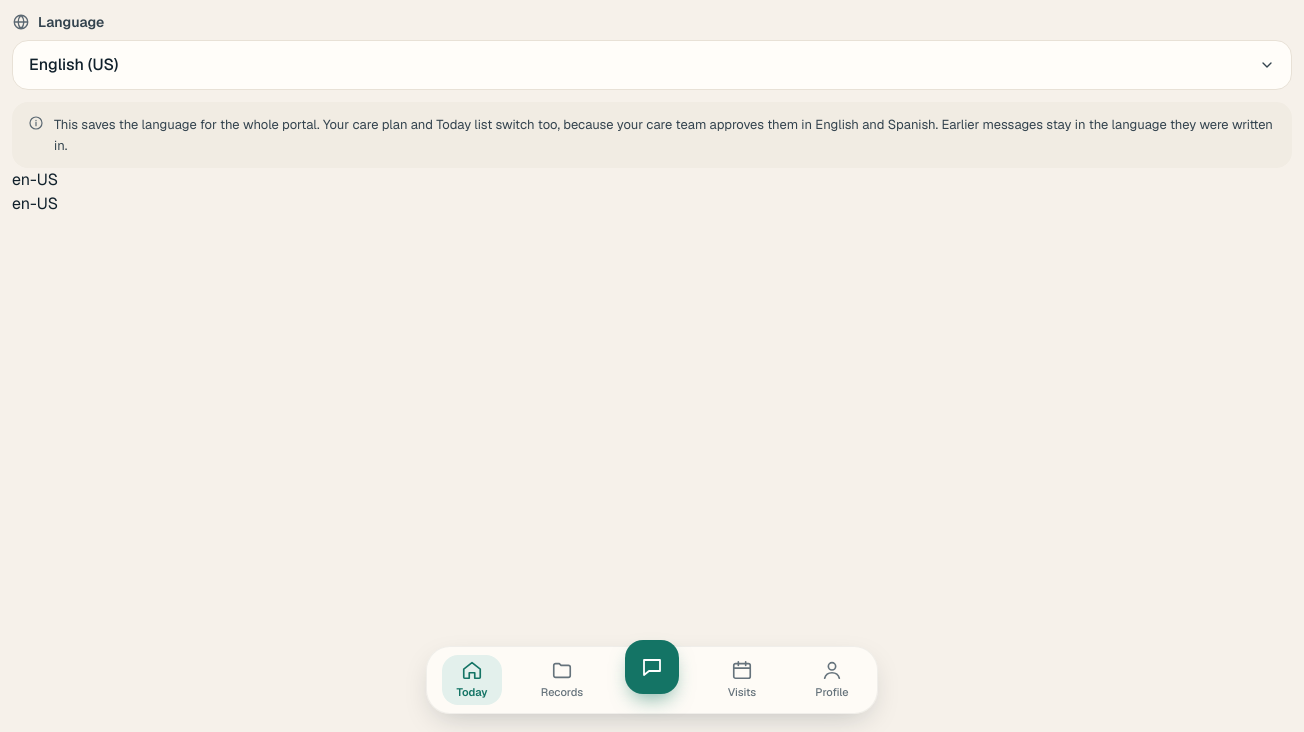
Test: Portal language preference › keeps the saved language after failure and explains medical-text boundaries
Select "Español (México)" in the dropdown at point(652, 65), box top-left (12, 40), bottom-right (1292, 90)
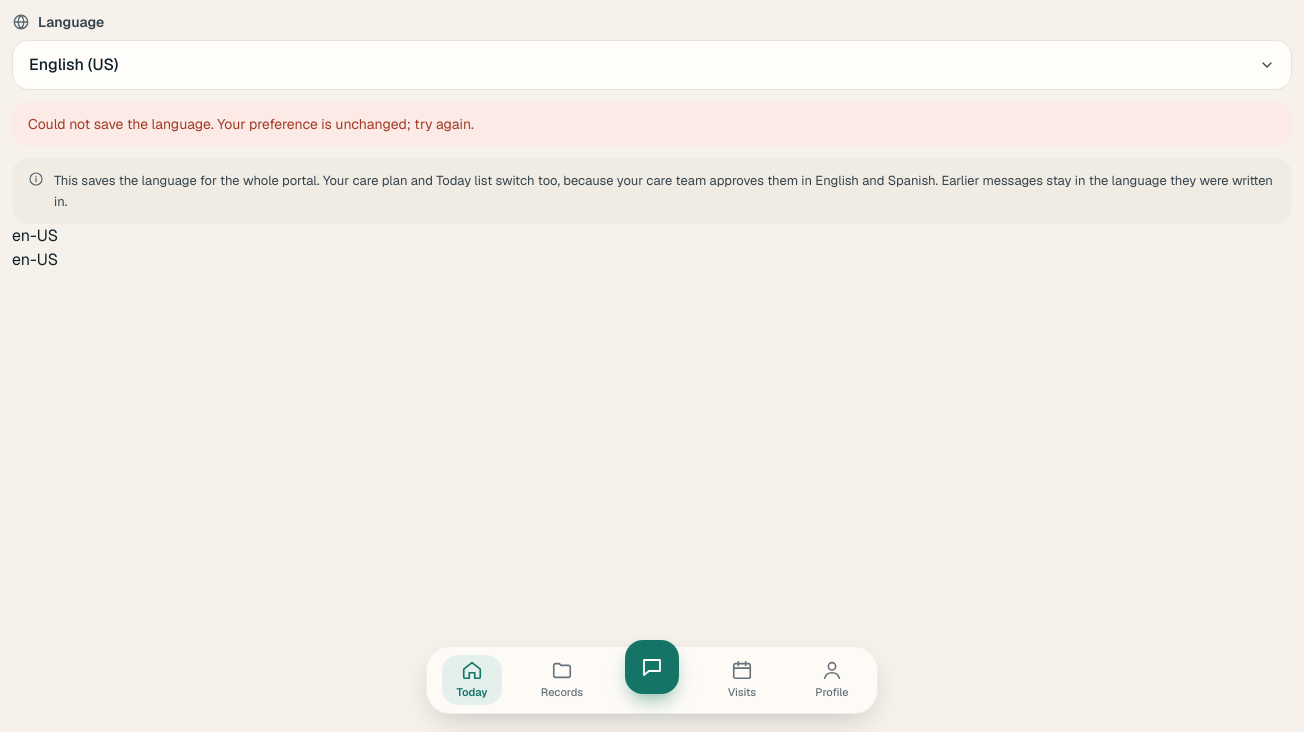
Expected: the text "approves them in English and Spanish. Earlier messages stay in the language they were written in" is shown, top-left (54, 172), bottom-right (1273, 210)
Expected: the message shows "preference is unchanged", top-left (28, 115), bottom-right (474, 133)
